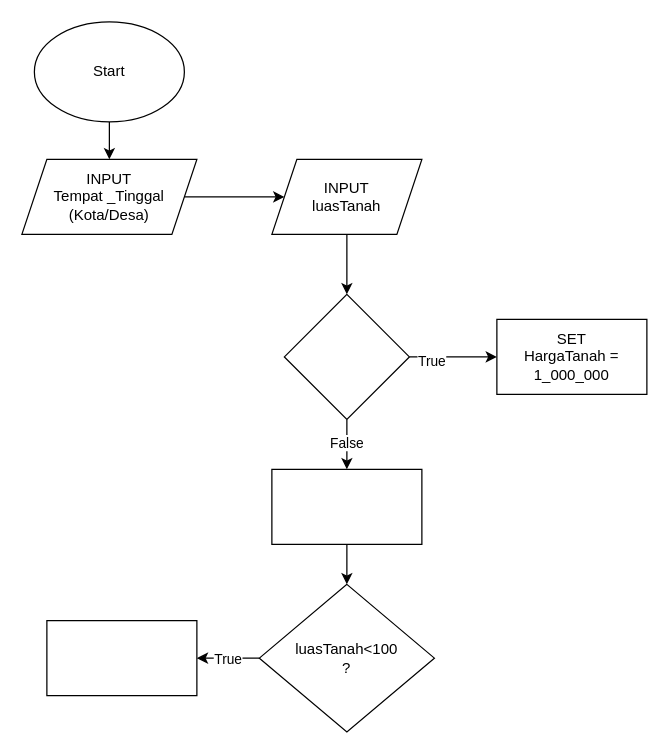
The diagram is 669 pixels wide and 754 high, and some of its shapes have lost their labels. The shapes that lost their labels are listed below. From the top down, each one's centre as x and y in pixels, then its label:
[346,356]: Tempat _Tinggal == "Kota" ?
[346,506]: SET HargaTanah = 3 00_000
[121,657]: Pajak=0
